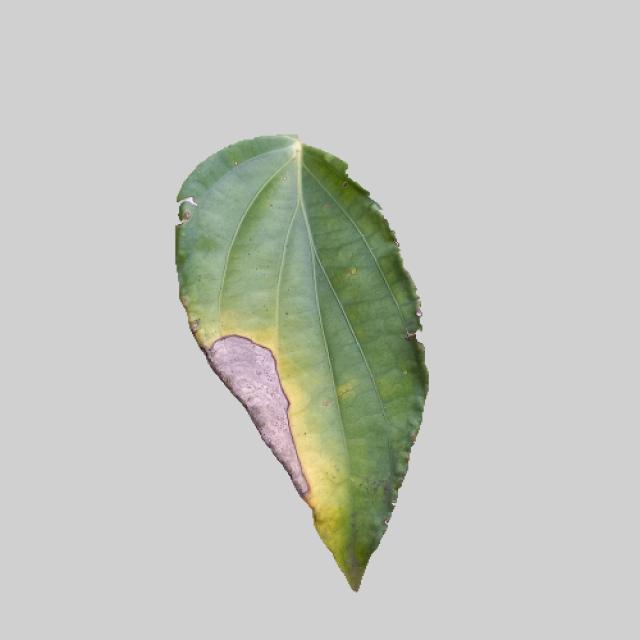leaf-blight: (128, 138, 439, 594)
